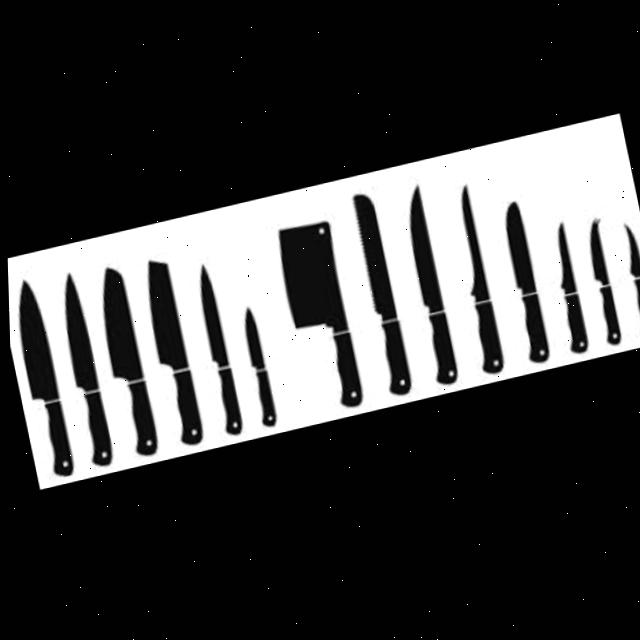Knife: (270, 220, 363, 419), (88, 263, 157, 460), (6, 274, 70, 480), (346, 194, 409, 402), (135, 257, 201, 449), (395, 187, 456, 391), (50, 269, 111, 468), (443, 187, 502, 381), (189, 264, 240, 438), (494, 205, 547, 370), (543, 226, 586, 360), (580, 221, 621, 352), (235, 307, 273, 430), (616, 226, 640, 344)
